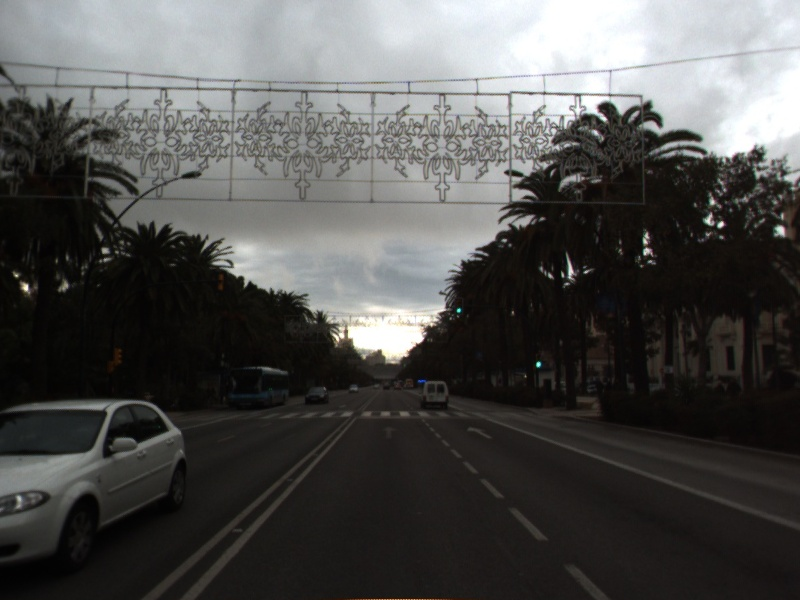STRAIGHT: (464, 424, 495, 441), (378, 423, 401, 441)
